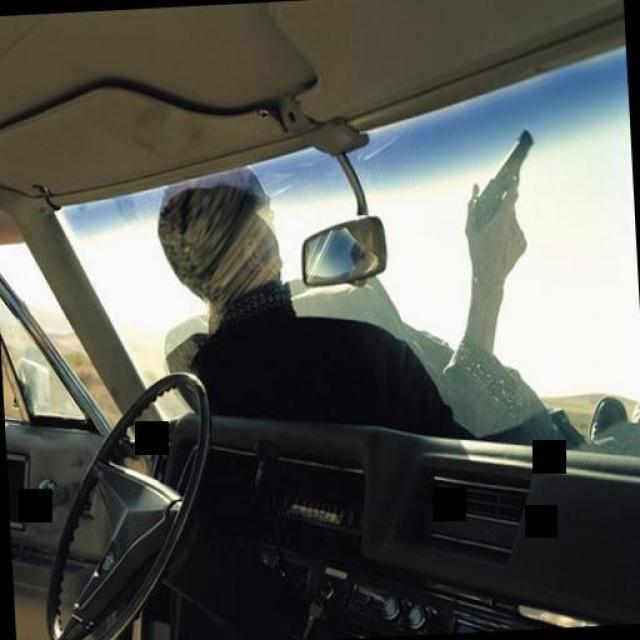gun: (458, 125, 542, 264)
